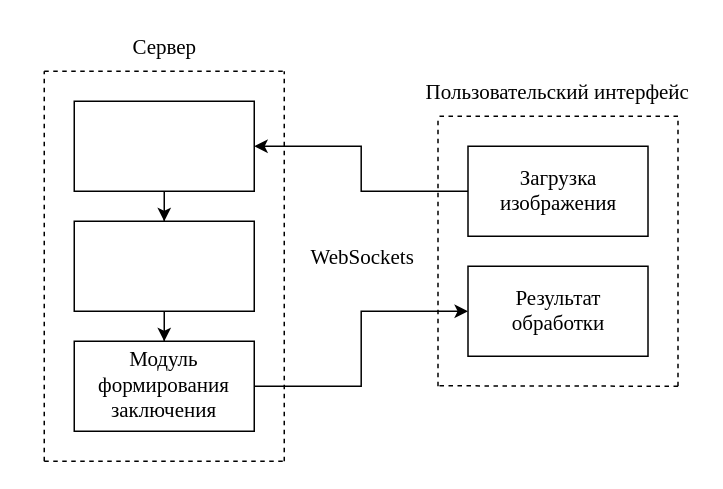
The diagram is 723 pixels wide and 489 high, and some of its shapes have lost their labels. The shapes that lost their labels are listed below. From the top down, each one's centre as x and y in pixels, then its label:
At (163,145): "Модуль предобработки".
At (163,265): "Модуль обработки".
